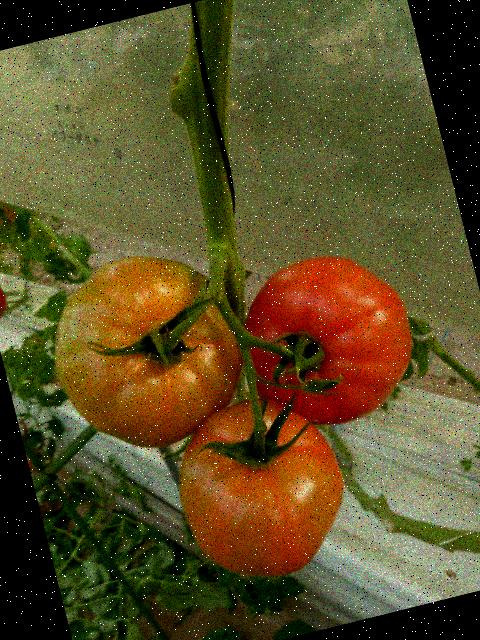b_fully_ripened: (225, 238, 430, 443)
b_half_ripened: (32, 233, 261, 467), (161, 380, 364, 594)
